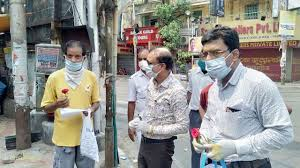mask: (202, 28, 240, 81), (145, 48, 172, 77), (64, 40, 85, 69), (137, 49, 148, 70)
